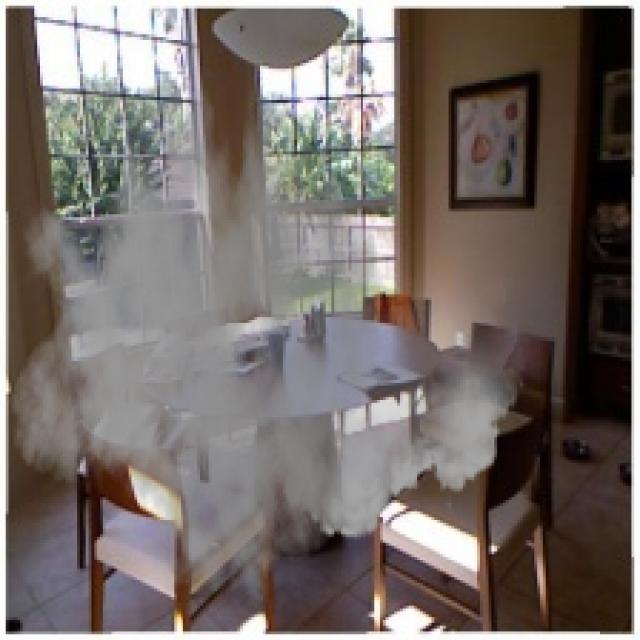Smoke: (8, 57, 526, 609)
